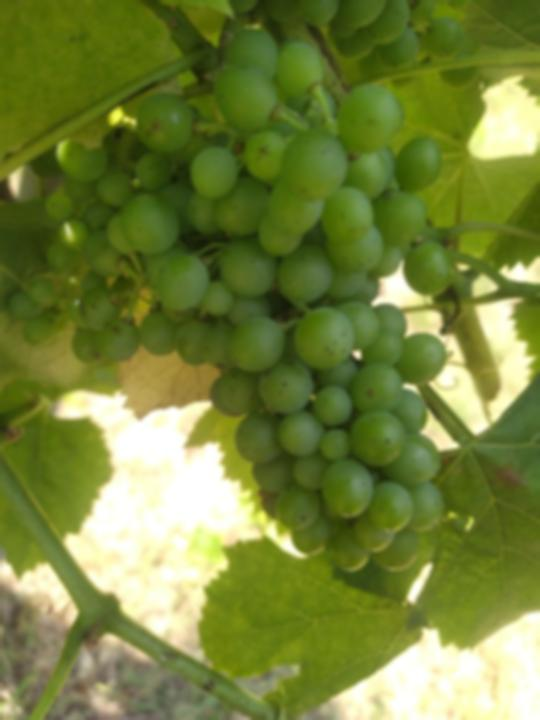grape: (9, 25, 460, 579)
